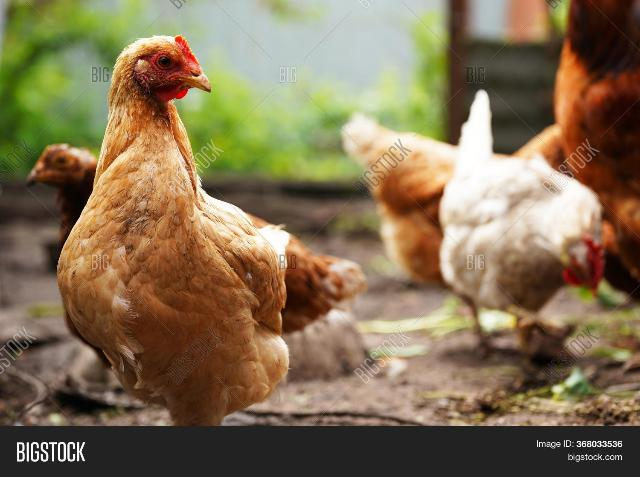Chicken: (55, 34, 290, 423), (23, 142, 369, 373), (436, 87, 606, 366), (552, 0, 640, 275), (342, 112, 465, 285)
